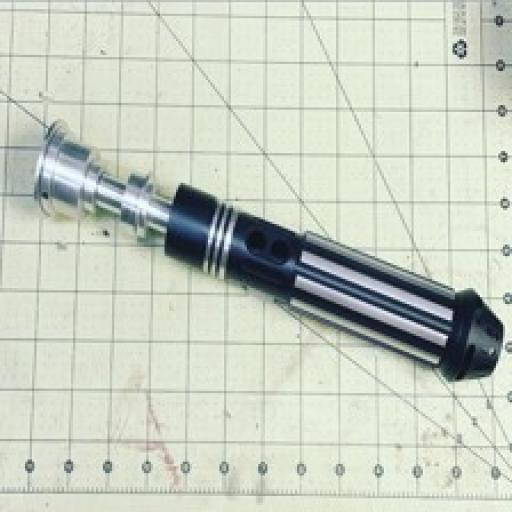lightsaber: (30, 115, 504, 379)
